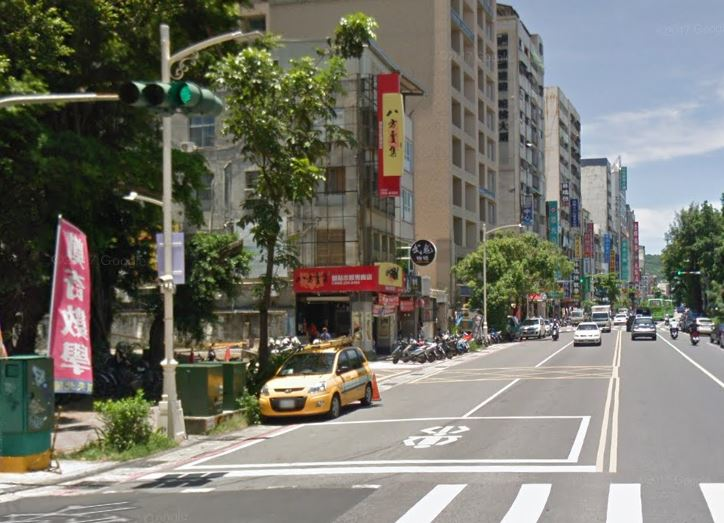Traffic_light_green: (116, 79, 228, 121)
car: (251, 331, 383, 427), (569, 320, 605, 348)
